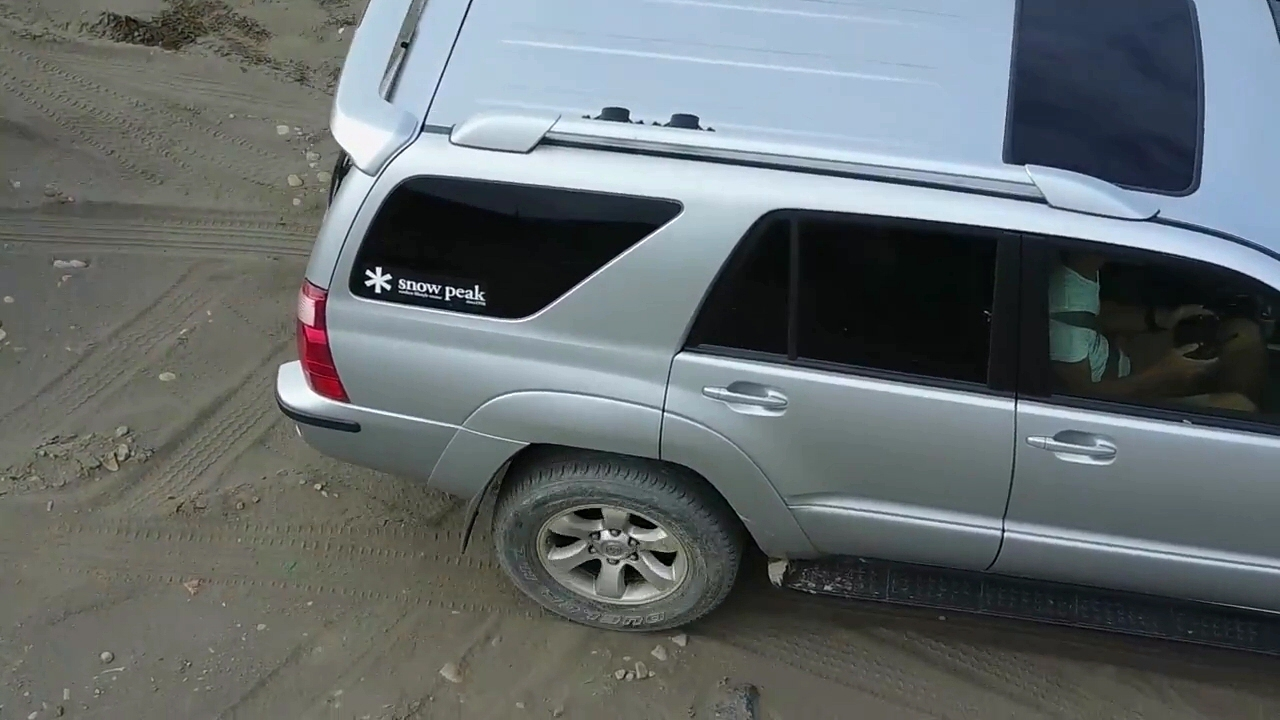araba: (274, 2, 1280, 651)
